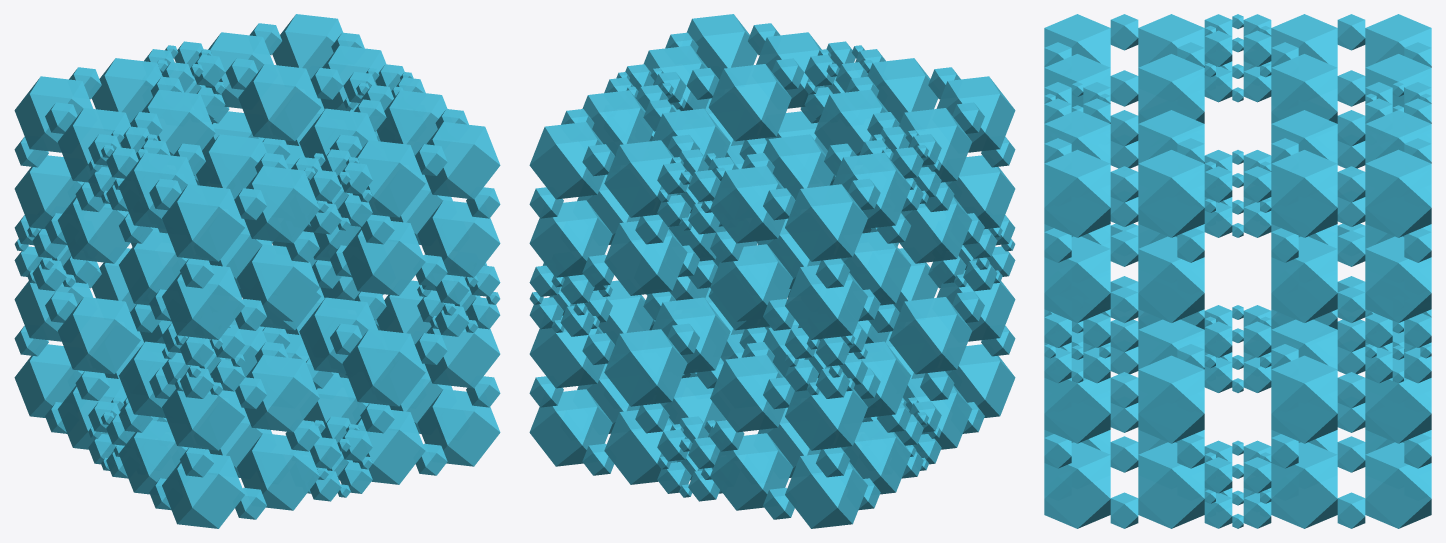
Rendered from fractalcuboctahedron3-2.glb.
The picture shows the model from 3 angles, left to right: view 1: azimuth 30°, elevation 25°; view 2: azimuth 150°, elevation 25°; view 3: azimuth 270°, elevation 25°; orthographic projection. The views are drawn at different scales.
Size of the model in its own units: 7.21 by 7.21 by 7.21.
